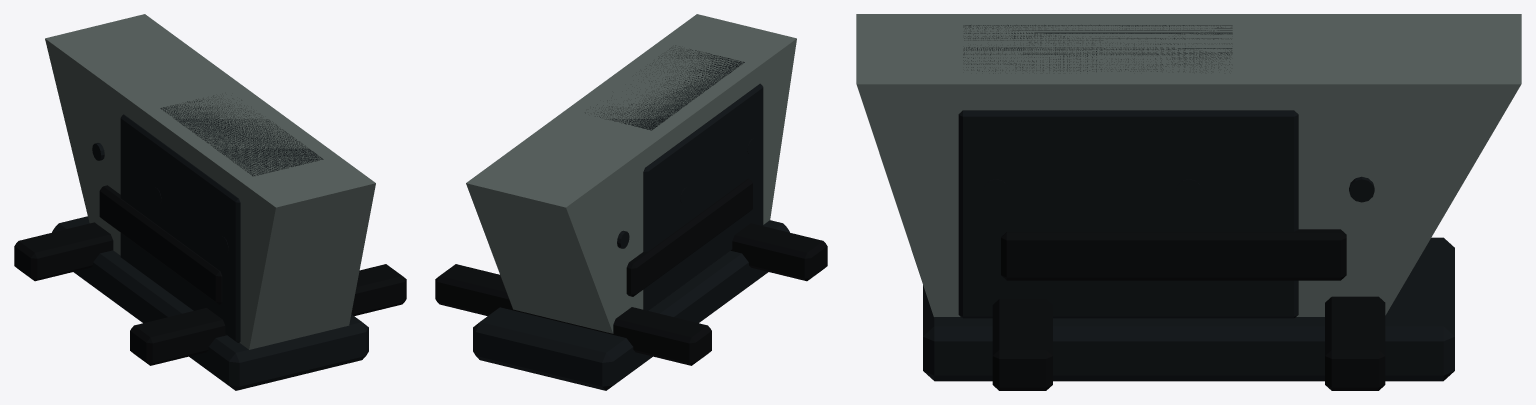
File: PylonHeavy.obj
3 views of the same model, side by side, from view 1: azimuth 30°, elevation 25°; view 2: azimuth 150°, elevation 25°; view 3: azimuth 270°, elevation 25° (orthographic). The views are drawn at different scales.
Parts seen in each view (by area): view 1: Tapered_pylon_casting, Reinforcement_rib, Lower_store_interface, Sway_brace, Mount_lug, Store_actuator_cover, Sway_brace.001; view 2: Tapered_pylon_casting, Reinforcement_rib, Lower_store_interface, Sway_brace.001, Store_actuator_cover, Sway_brace, Mount_lug; view 3: Tapered_pylon_casting, Reinforcement_rib.001, Lower_store_interface, Store_actuator_cover.001, Sway_brace.001, Sway_brace, Mount_lug.
Boxes of the visible parts, x1=… form: Tapered_pylon_casting: x1=45, y1=14, x2=375, y2=349; Reinforcement_rib: x1=120, y1=114, x2=240, y2=342; Lower_store_interface: x1=52, y1=216, x2=368, y2=390; Sway_brace: x1=130, y1=264, x2=406, y2=365; Mount_lug: x1=160, y1=95, x2=323, y2=176; Store_actuator_cover: x1=99, y1=185, x2=222, y2=304; Sway_brace.001: x1=14, y1=222, x2=113, y2=281; Tapered_pylon_casting: x1=466, y1=14, x2=796, y2=333; Reinforcement_rib: x1=643, y1=83, x2=763, y2=310; Lower_store_interface: x1=473, y1=220, x2=789, y2=390; Sway_brace.001: x1=435, y1=264, x2=711, y2=365; Store_actuator_cover: x1=626, y1=178, x2=752, y2=296; Sway_brace: x1=731, y1=223, x2=827, y2=281; Mount_lug: x1=585, y1=45, x2=744, y2=130; Tapered_pylon_casting: x1=856, y1=14, x2=1521, y2=316; Reinforcement_rib.001: x1=958, y1=110, x2=1298, y2=318; Lower_store_interface: x1=923, y1=237, x2=1454, y2=381; Store_actuator_cover.001: x1=1001, y1=229, x2=1346, y2=280; Sway_brace.001: x1=1325, y1=296, x2=1385, y2=390; Sway_brace: x1=992, y1=299, x2=1052, y2=390; Mount_lug: x1=963, y1=25, x2=1232, y2=73.
Bounding box in the file's own units: 0.572 × 0.42 × 0.88.
